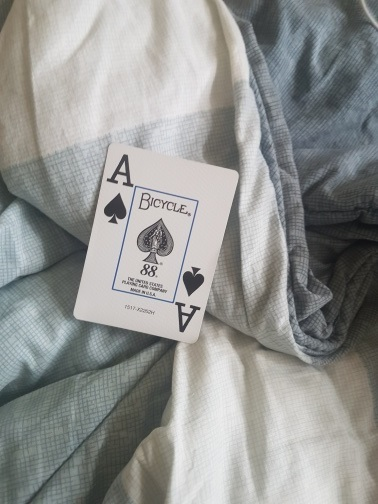ace: (72, 142, 240, 343)
